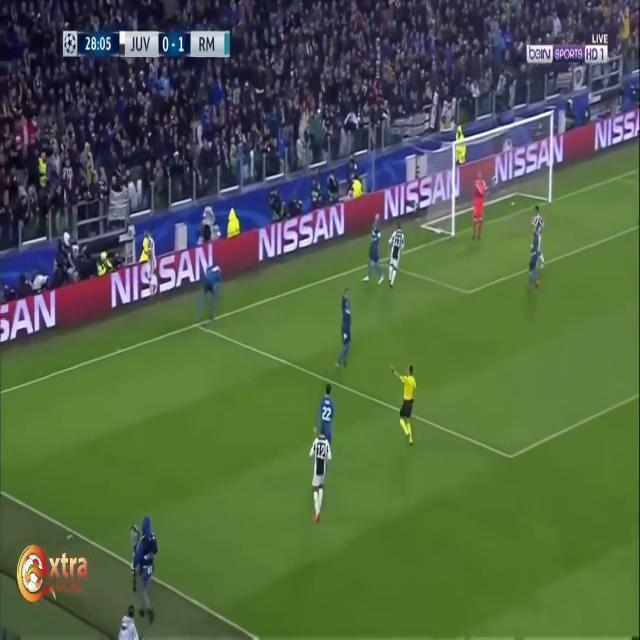goalkeeper: (465, 168, 490, 247)
player: (131, 521, 162, 624), (307, 420, 332, 521), (528, 203, 548, 294), (336, 281, 356, 371), (366, 220, 387, 294), (203, 255, 226, 322), (387, 222, 407, 295), (314, 381, 335, 449)
referee: (395, 360, 422, 450)
